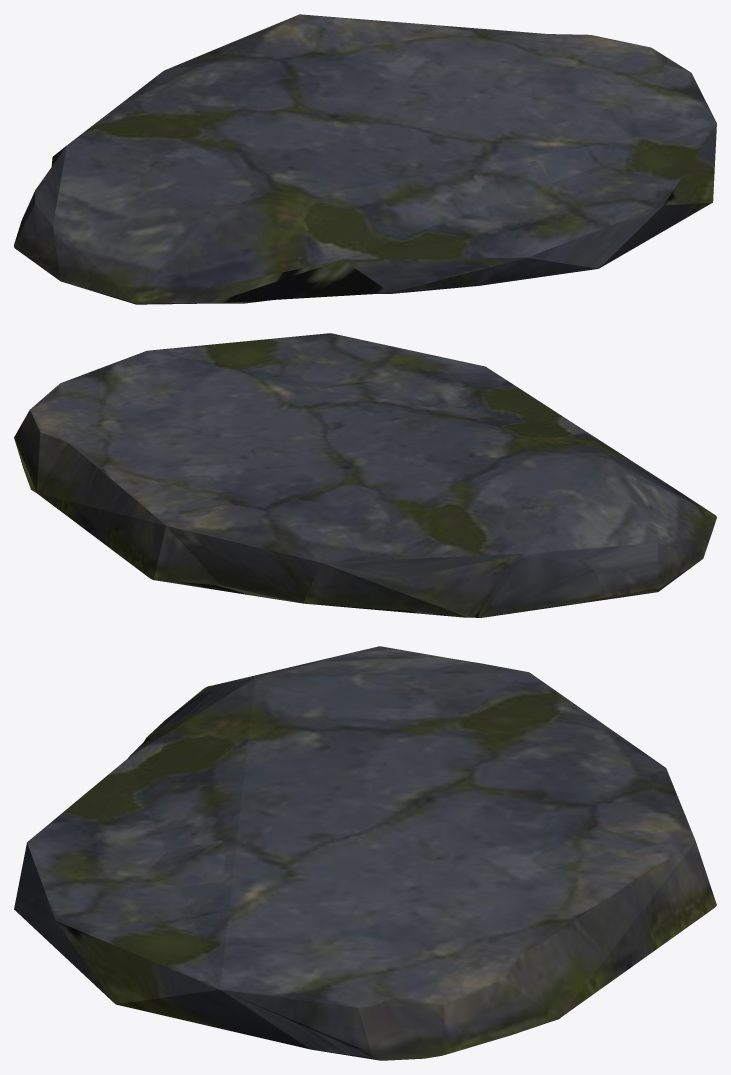
The model's file is rock_slab_xl_a_lod1.glb.
The picture shows the model from 3 angles, top to bottom: view 1: azimuth 30°, elevation 25°; view 2: azimuth 150°, elevation 25°; view 3: azimuth 270°, elevation 25°; orthographic projection. The views are drawn at different scales.
Parts seen in each view (by area): view 1: rock_slab_xl_a_lod1; view 2: rock_slab_xl_a_lod1; view 3: rock_slab_xl_a_lod1.
Part boxes in pixels (x1,y1,x2,y2): rock_slab_xl_a_lod1: (14, 14, 716, 304); rock_slab_xl_a_lod1: (14, 333, 716, 617); rock_slab_xl_a_lod1: (14, 646, 716, 1060).
Bounding box in the file's own units: 3.4 × 0.2807 × 2.59.
1 material, 1 textured.
